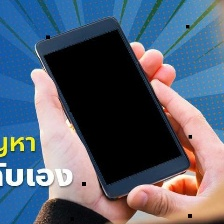phone: (30, 14, 196, 205)
